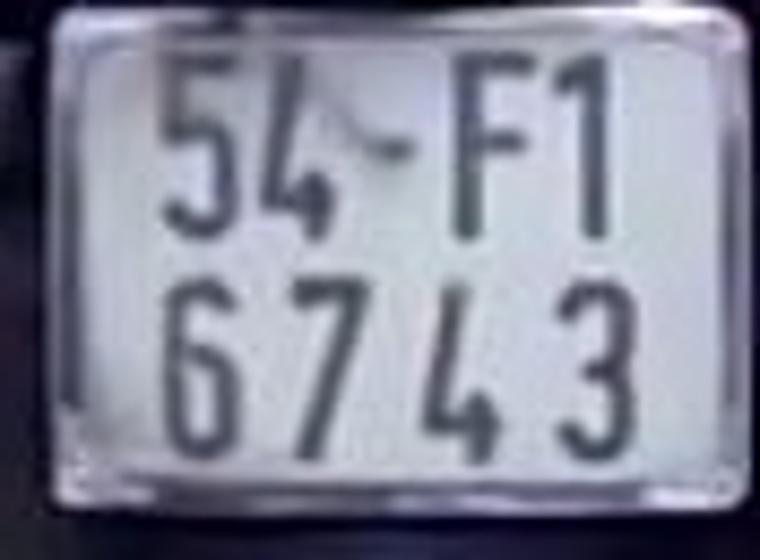-: (361, 132, 422, 176)
1: (552, 45, 623, 246)
3: (548, 273, 642, 467)
4: (418, 281, 510, 476), (261, 52, 345, 250)
5: (157, 54, 249, 244)
6: (156, 276, 247, 463)
7: (287, 270, 375, 464)
F: (441, 47, 544, 246)
